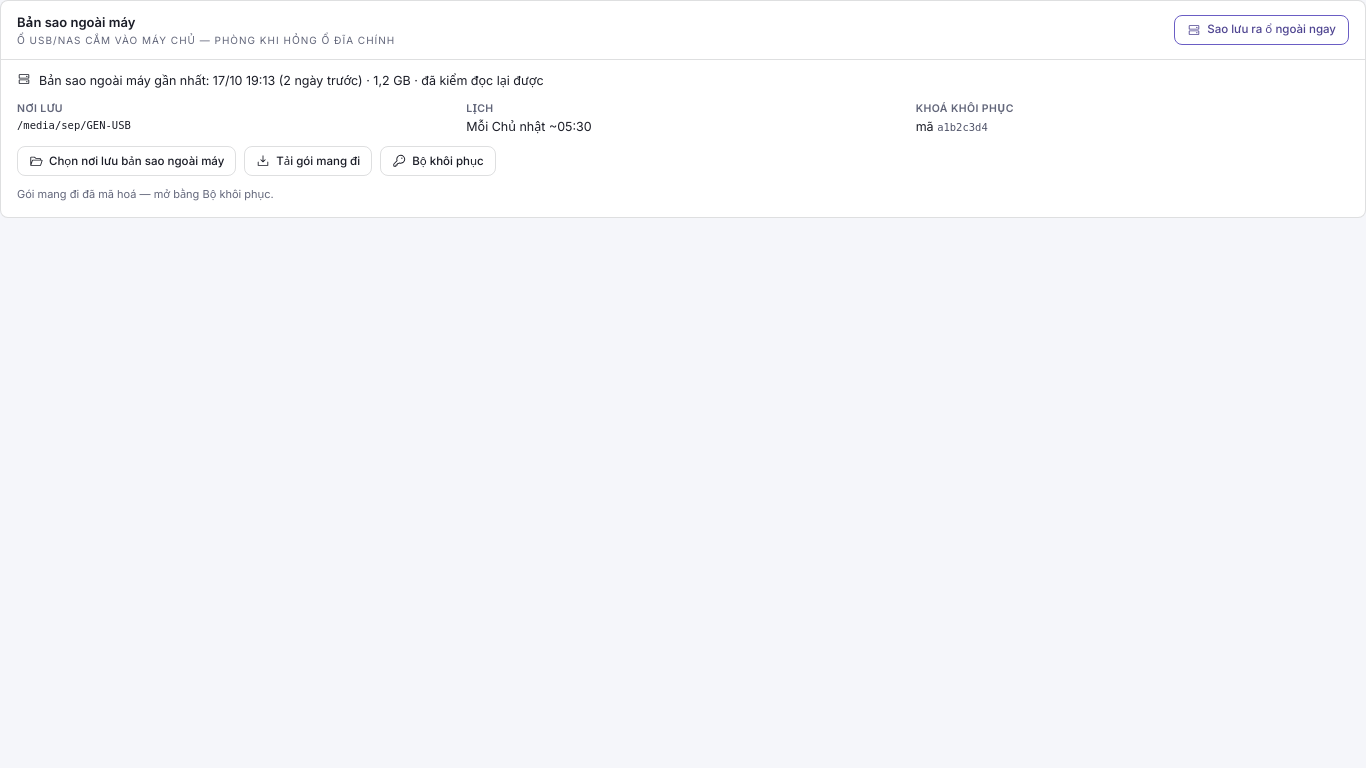
Test: Bản sao ngoài máy — thẻ › Chọn nơi lưu: PUT đúng body; 423 ⇒ hộp PIN rồi gửi lại; xong ⇒ "Đang chờ máy chủ nhận…"
The image size is (1366, 768).
Click the button "Chọn nơi lưu bản sao ngoài máy" at (127, 161), box [17,146,236,176]
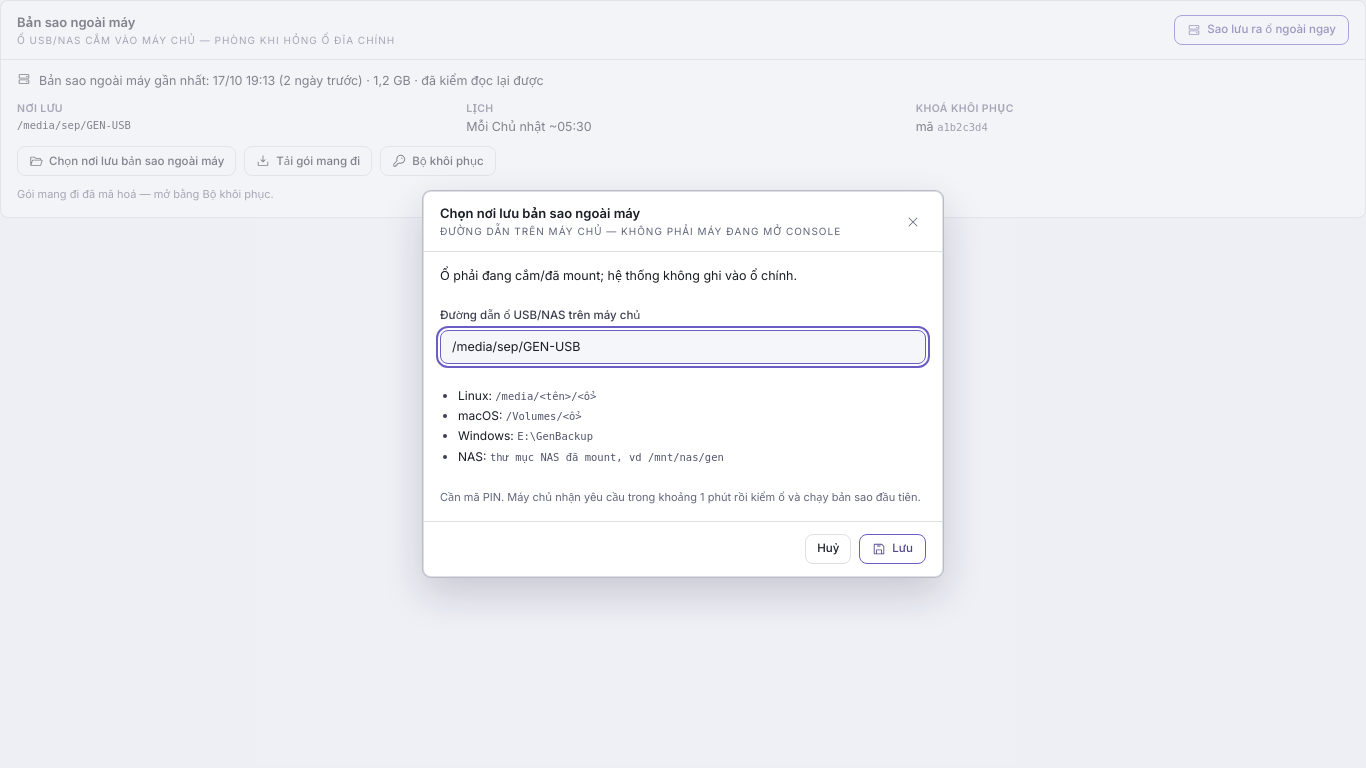
expect the dialog "Chọn nơi lưu bản sao ngoài máy" shows "Ổ phải đang cắm/đã mount; hệ thống không ghi vào ổ chính": met, box [440,268,797,283]
expect the dialog "Chọn nơi lưu bản sao ngoài máy" shows "/Volumes/<ổ>": met, box [506,410,582,422]
expect the dialog "Chọn nơi lưu bản sao ngoài máy" shows "E:\\GenBackup": met, box [517,430,593,442]
Replace the text in the field labelled "Đường dẫn ổ USB/NAS trên máy chủ" with "/media/sep/USB2" at (683, 346), box [440,330,926,364]
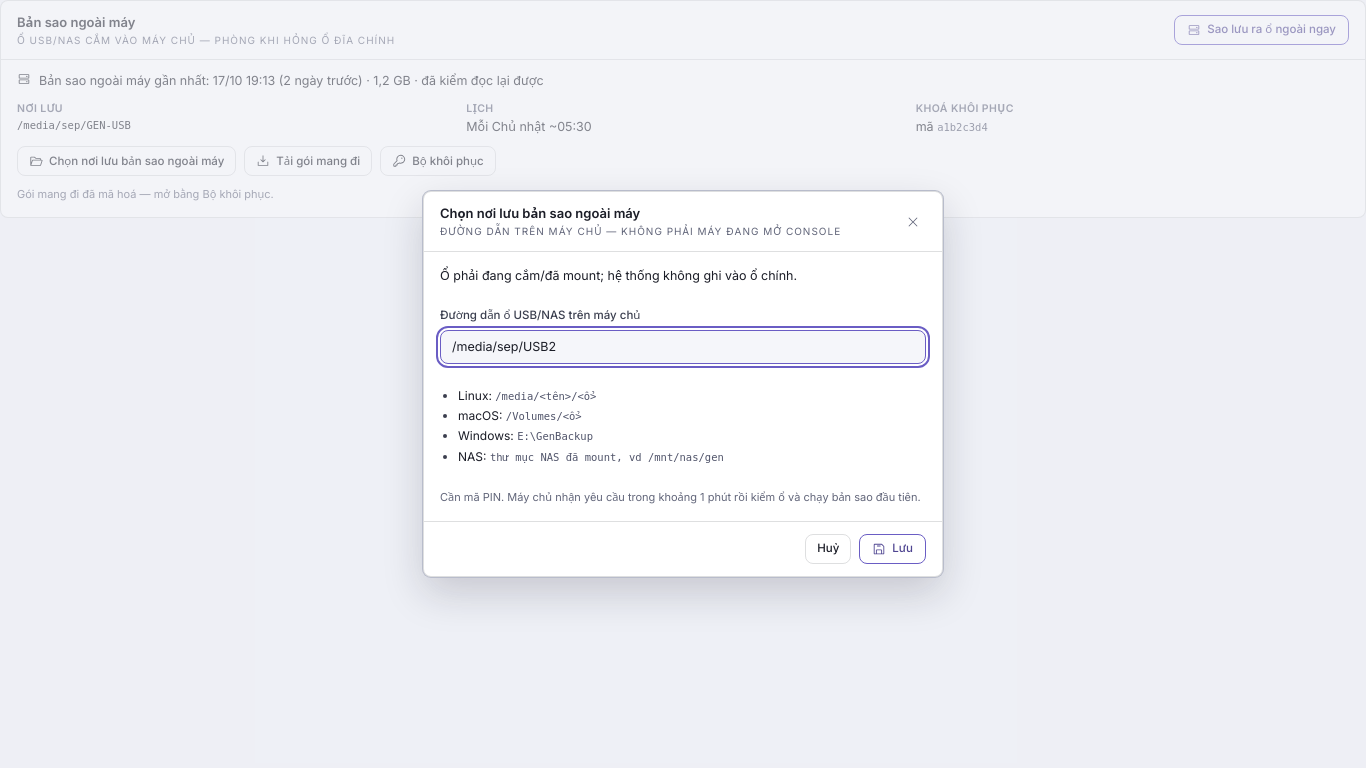
Click the button "Lưu" at (893, 549), box [859,534,926,564]
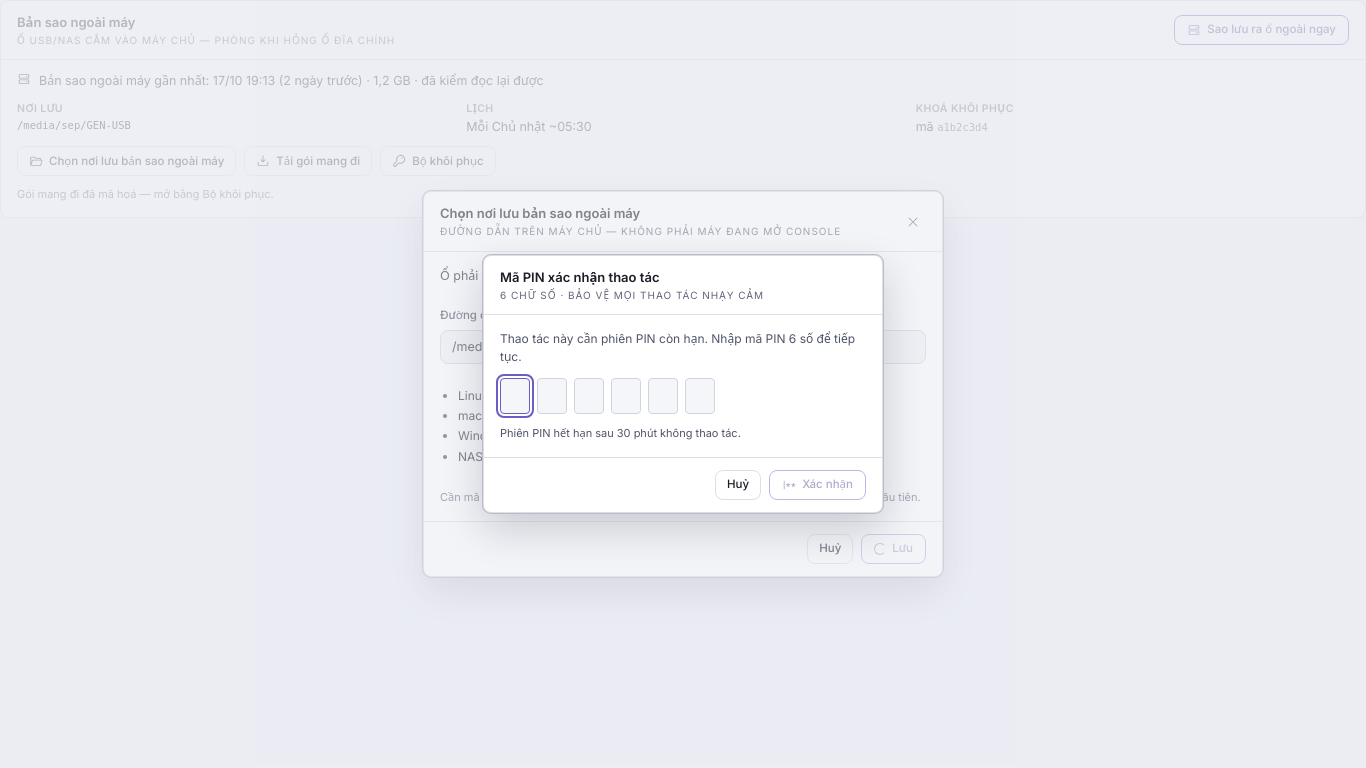
Type keys "246810"
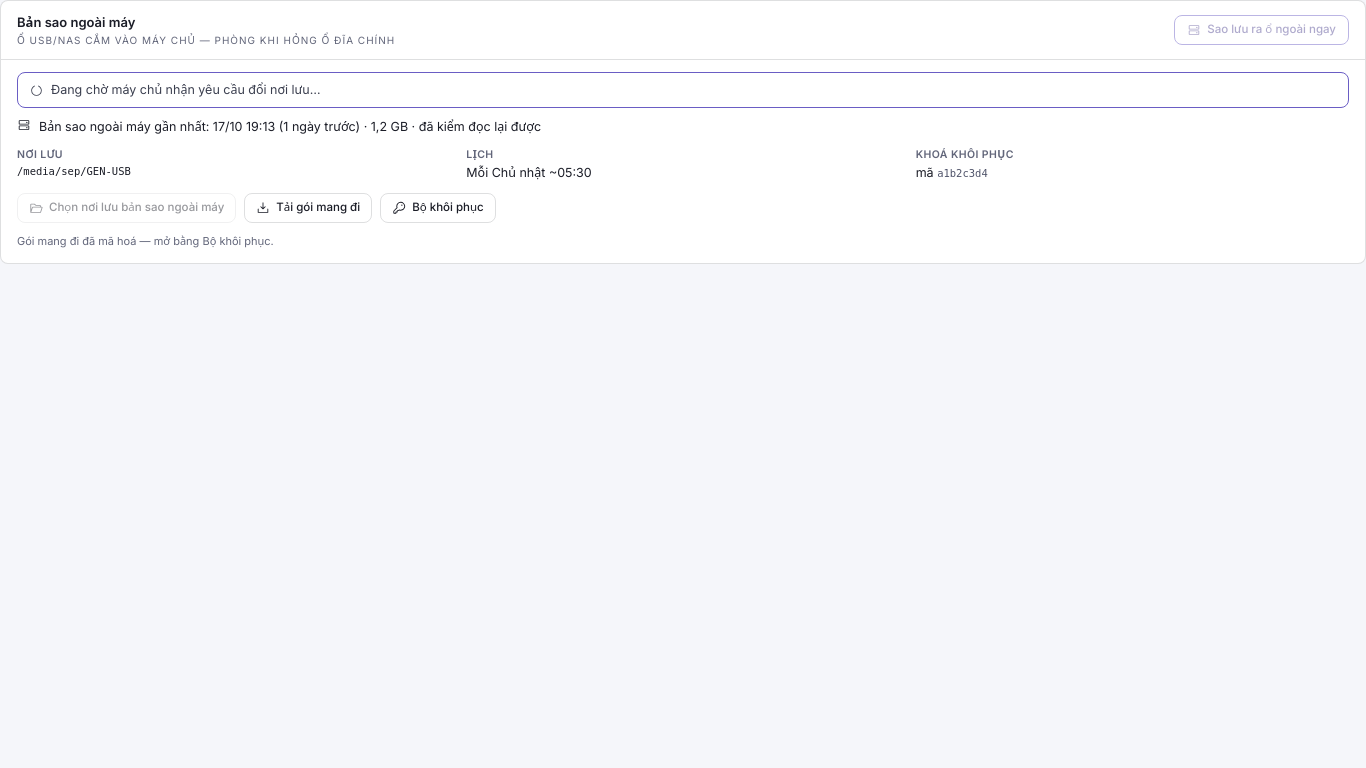
expect the message with test id "offsite-request" reads "Đang chờ máy chủ nhận yêu cầu đổi nơi lưu…": met, box [51,82,320,97]
